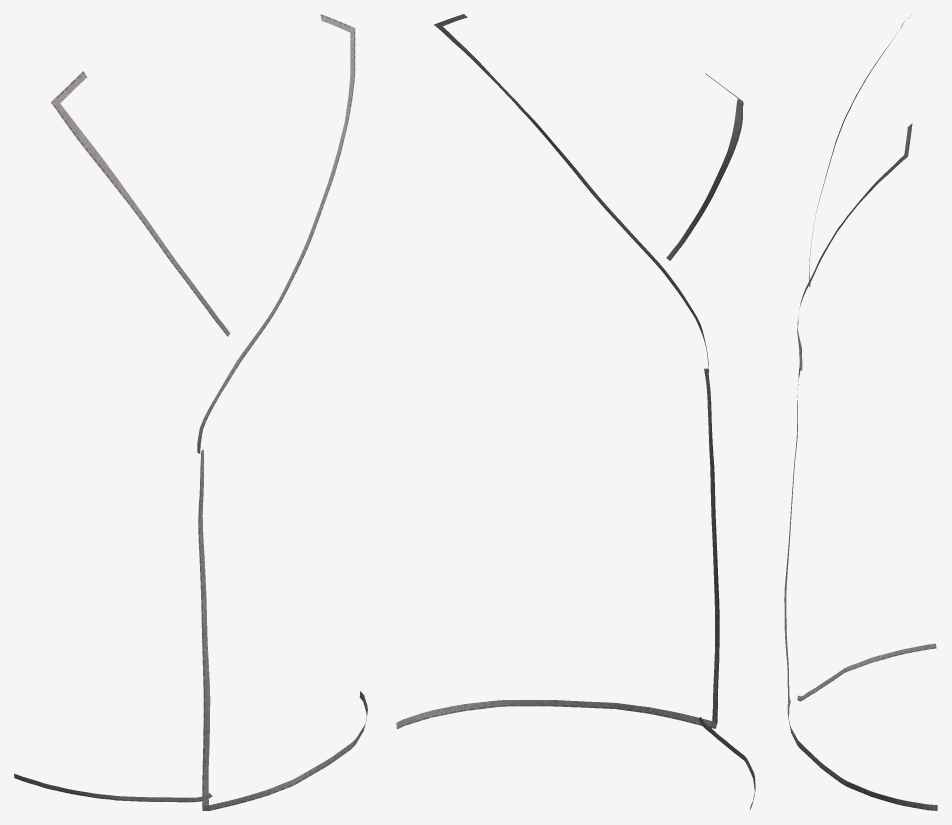
The model's file is noch_double_breasted_suit_AMF 2mm.glb.
3 renders of one model, left to right at view 1: azimuth 30°, elevation 25°; view 2: azimuth 150°, elevation 25°; view 3: azimuth 270°, elevation 25°, orthographic. The views are drawn at different scales.
Parts seen in each view (by area): view 1: noch_double_breasted_suit_AMF1; view 2: noch_double_breasted_suit_AMF1; view 3: noch_double_breasted_suit_AMF1.
Part boxes in pixels (x1,y1,x2,y2): noch_double_breasted_suit_AMF1: [14, 14, 367, 810]; noch_double_breasted_suit_AMF1: [396, 14, 755, 810]; noch_double_breasted_suit_AMF1: [784, 15, 937, 810].
Size of the model in its own units: 0.0478 by 0.093 by 0.0194.
1 material, 1 textured.
